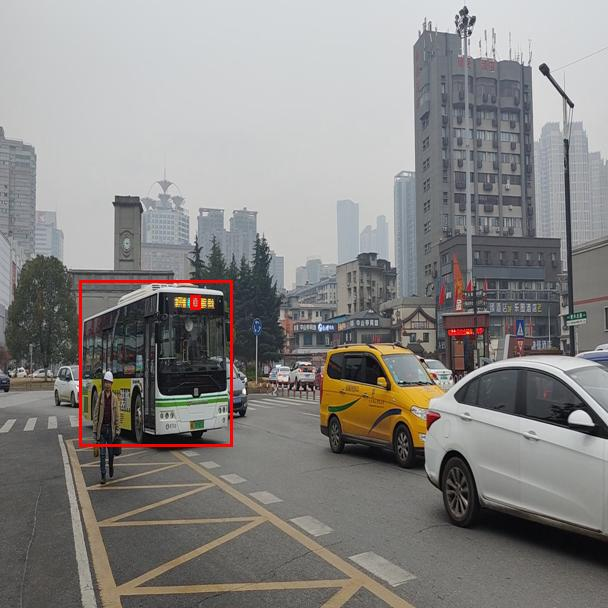bus: (79, 280, 232, 446)
screen: (190, 295, 200, 309)
